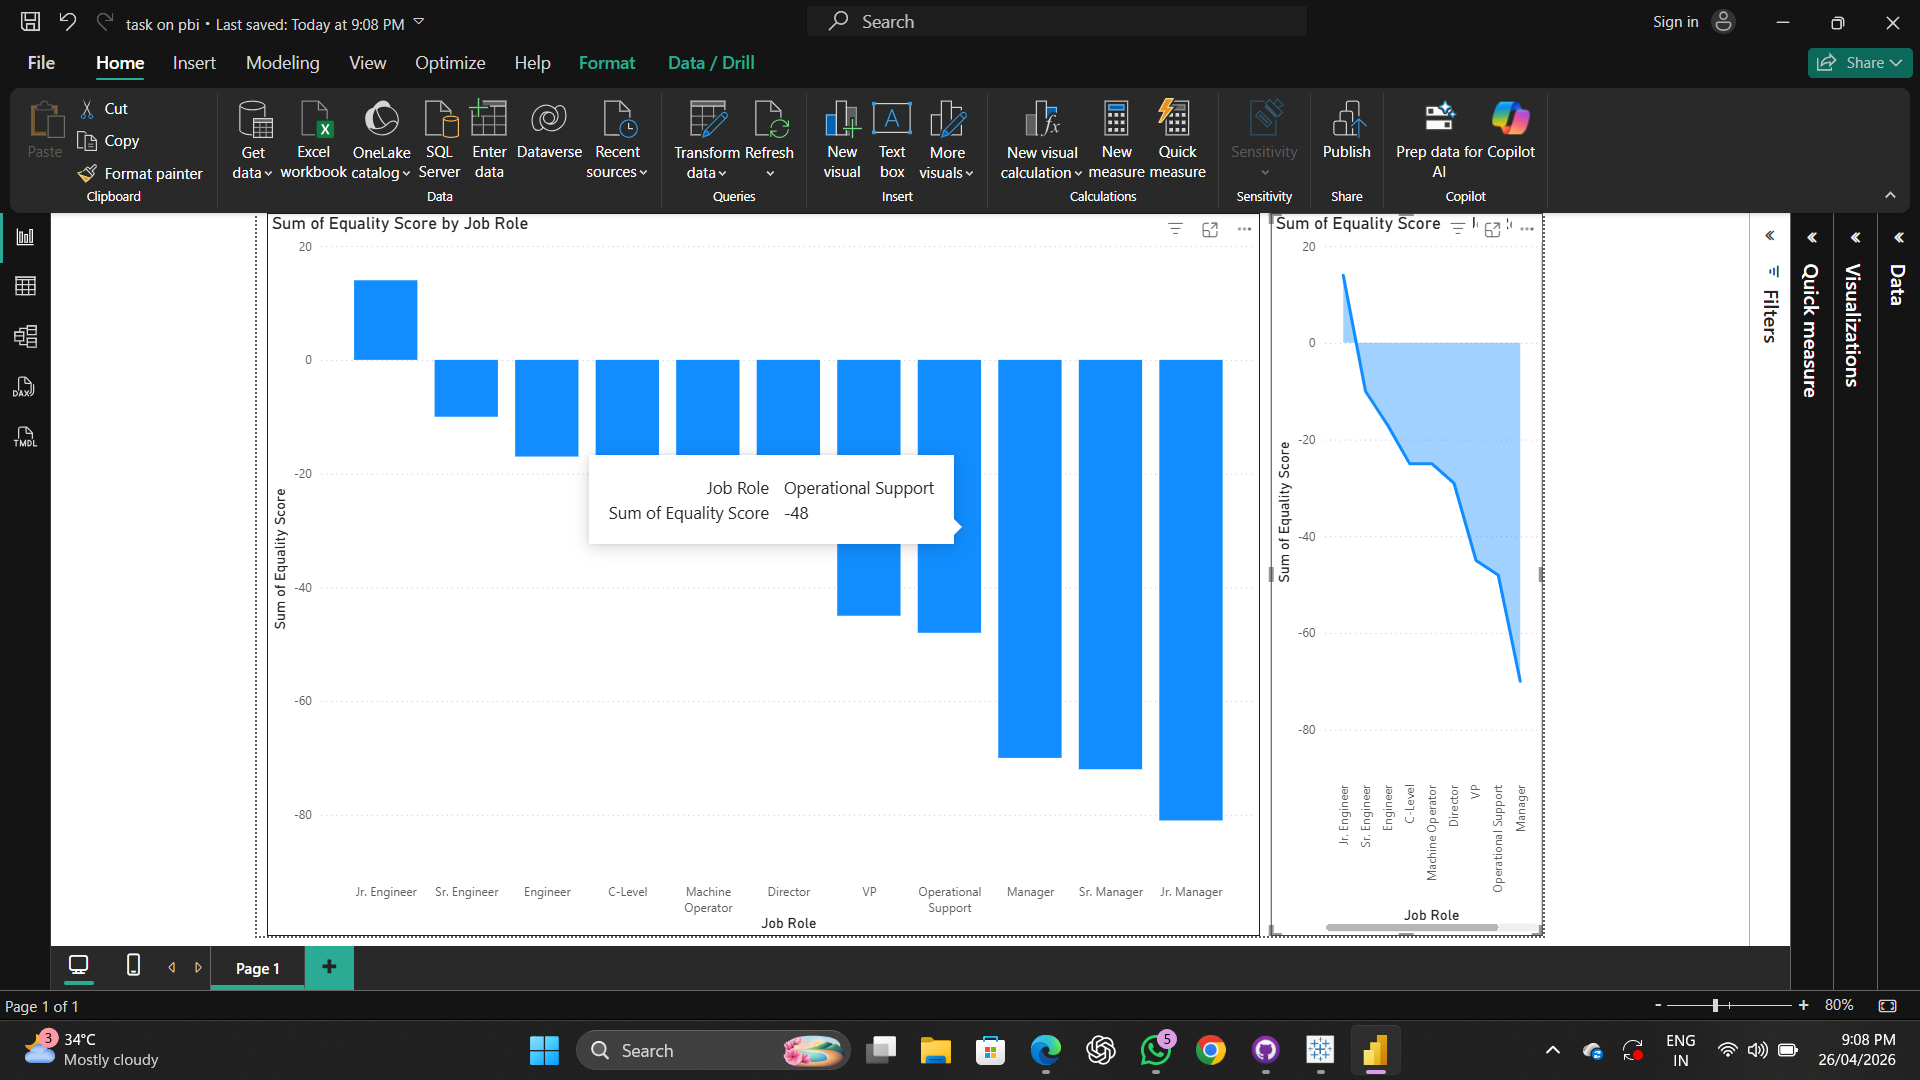

This screenshot's page, from the dashboard's own definition file:
{"tool":"powerbi","page":{"name":"Page 1","canvas":[1280,720],"ordinal":0},"visuals":[{"type":"clusteredColumnChart","fields":{"Y":["Sum(Sheet1.Equality Score)"],"Category":["Sheet1.Job Role"]},"box":[9.6,0,989.4,720.4],"z":0},{"type":"areaChart","fields":{"Category":["Sheet1.Job Role"],"Y":["Sum(Sheet1.Equality Score)"]},"box":[1008.9,0,271.2,720.3],"z":1}]}

Visuals, with their boxes on the page's 1280x720 design canvas (x1, y1, x2, y2). These are canvas units, not pixel positions in the 1920x1080 screenshot, which may show the page scaled, cropped or inside an application window:
clusteredColumnChart - Sum(Sheet1.Equality Score) x Sheet1.Job Role: detection(10, 0, 999, 720)
areaChart - Sheet1.Job Role x Sum(Sheet1.Equality Score): detection(1009, 0, 1280, 720)
